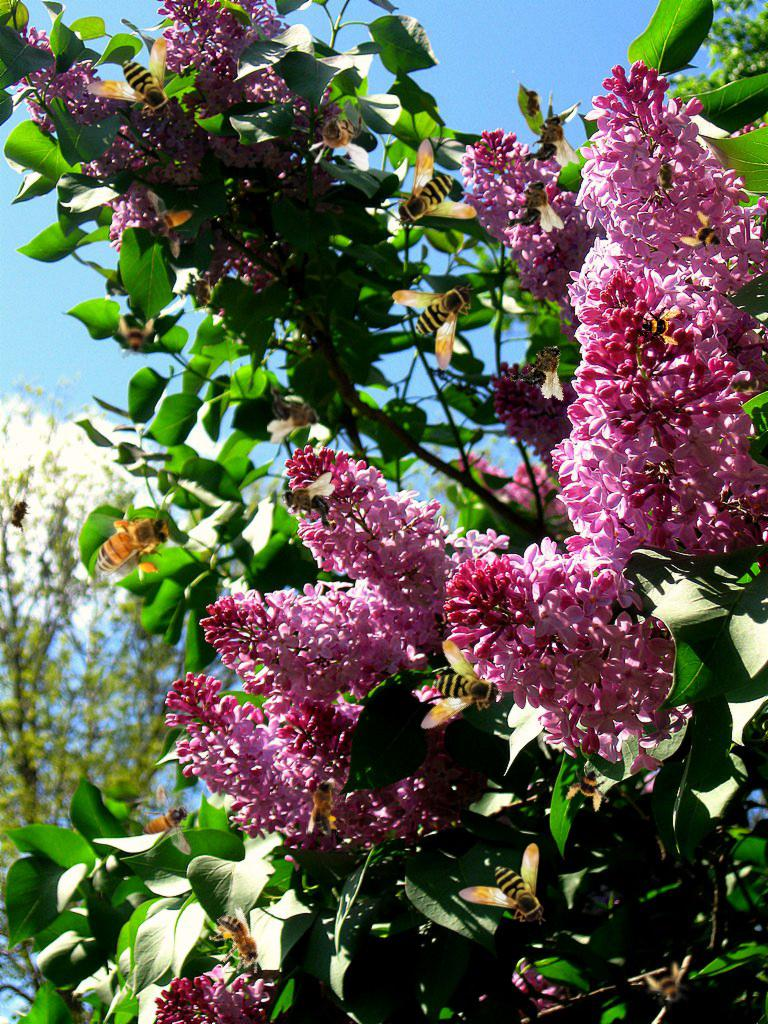Bee: (387, 632, 509, 752), (395, 138, 477, 226), (392, 283, 474, 371), (86, 37, 174, 119), (458, 843, 546, 925), (84, 509, 177, 577), (201, 904, 277, 985), (503, 332, 580, 404), (308, 101, 369, 171), (637, 957, 697, 1017), (675, 207, 735, 267), (145, 189, 195, 260), (142, 784, 192, 855), (267, 382, 320, 444), (518, 114, 580, 167), (502, 179, 564, 232), (282, 472, 335, 534), (562, 759, 618, 815), (306, 771, 351, 837), (112, 315, 156, 359), (637, 303, 681, 347), (2, 491, 38, 537), (521, 84, 543, 124), (724, 374, 764, 396), (192, 273, 214, 313), (656, 156, 678, 196)
